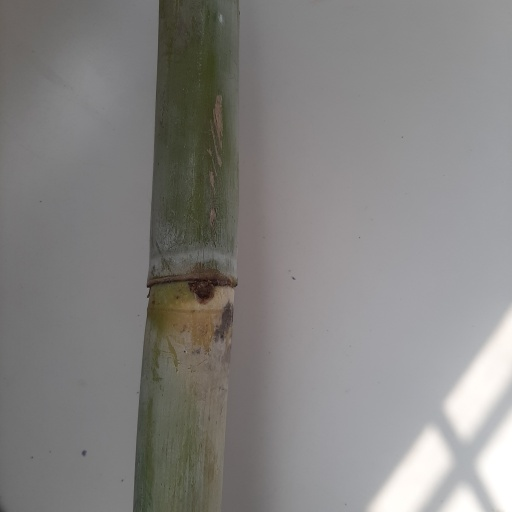Bud: (193, 280, 216, 302)
